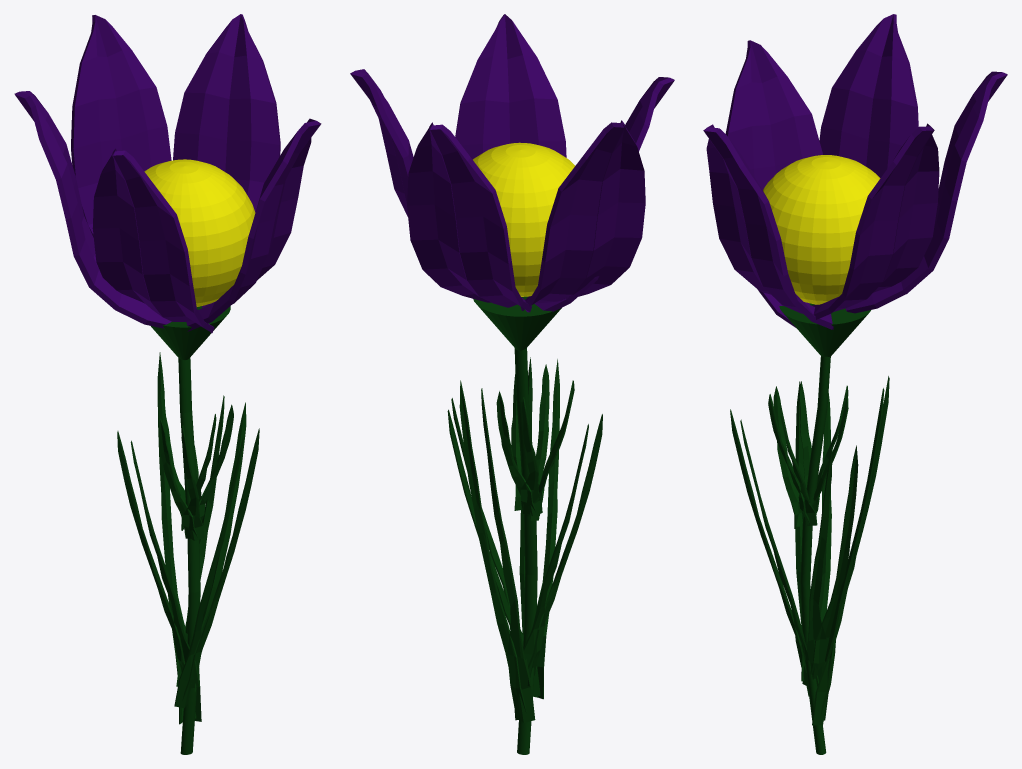
File: yellowflower.fbx
3 renders of one model, left to right at view 1: azimuth 30°, elevation 25°; view 2: azimuth 150°, elevation 25°; view 3: azimuth 270°, elevation 25°, orthographic. The views are drawn at different scales.
Visible parts, largest first — view 1: Плоскость.009, Плоскость.011, Плоскость.008, Сфера.001, Плоскость.010, Плоскость.012, Плоскость.016, Цилиндр.001, Плоскость.019, Плоскость.017, Плоскость.018, Плоскость.015 (+3 smaller); view 2: Плоскость.008, Плоскость.012, Плоскость.010, Сфера.001, Плоскость.018, Цилиндр.001, Плоскость.019, Плоскость.016, Плоскость.009, Плоскость.013, Конус.001, Плоскость.017 (+3 smaller); view 3: Сфера.001, Плоскость.009, Плоскость.012, Плоскость.010, Плоскость.011, Плоскость.008, Плоскость.017, Цилиндр.001, Плоскость.018, Плоскость.016, Плоскость.019, Конус.001 (+3 smaller).
Part boxes in pixels (x1,y1,x2,y2): Плоскость.009: [173, 14, 280, 212]; Плоскость.011: [92, 148, 214, 333]; Плоскость.008: [71, 15, 171, 237]; Сфера.001: [144, 159, 255, 306]; Плоскость.010: [186, 118, 321, 331]; Плоскость.012: [14, 91, 171, 328]; Плоскость.016: [174, 428, 259, 708]; Цилиндр.001: [178, 358, 200, 754]; Плоскость.019: [117, 431, 200, 688]; Плоскость.017: [176, 395, 246, 692]; Плоскость.018: [157, 352, 201, 724]; Плоскость.015: [158, 418, 204, 540]; Плоскость.008: [407, 122, 531, 312]; Плоскость.012: [520, 120, 645, 310]; Плоскость.010: [455, 14, 566, 159]; Сфера.001: [473, 142, 574, 296]; Плоскость.018: [459, 380, 535, 722]; Цилиндр.001: [514, 348, 537, 754]; Плоскость.019: [523, 414, 602, 677]; Плоскость.016: [519, 357, 559, 699]; Плоскость.009: [350, 69, 468, 289]; Плоскость.013: [496, 391, 542, 516]; Конус.001: [473, 296, 561, 350]; Плоскость.017: [447, 398, 531, 686]; Сфера.001: [763, 155, 880, 304]; Плоскость.009: [812, 123, 939, 319]; Плоскость.012: [819, 14, 918, 177]; Плоскость.010: [703, 124, 833, 329]; Плоскость.011: [725, 40, 822, 328]; Плоскость.008: [845, 71, 1007, 313]; Плоскость.017: [802, 445, 858, 686]; Цилиндр.001: [800, 356, 830, 754]; Плоскость.018: [812, 376, 889, 725]; Плоскость.016: [730, 409, 818, 696]; Плоскость.019: [795, 381, 831, 681]; Конус.001: [779, 303, 870, 356].
Bounding box in the file's own units: 196 × 504 × 205.
